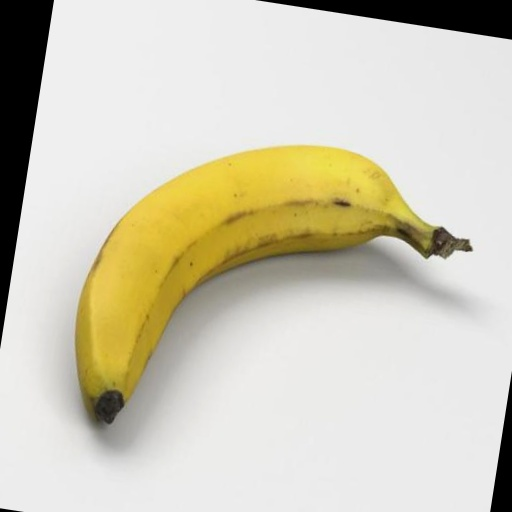fruit: (75, 146, 470, 422)
